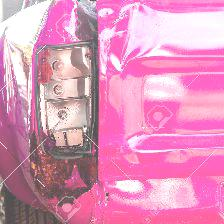tail_lamp: (22, 15, 114, 211)
